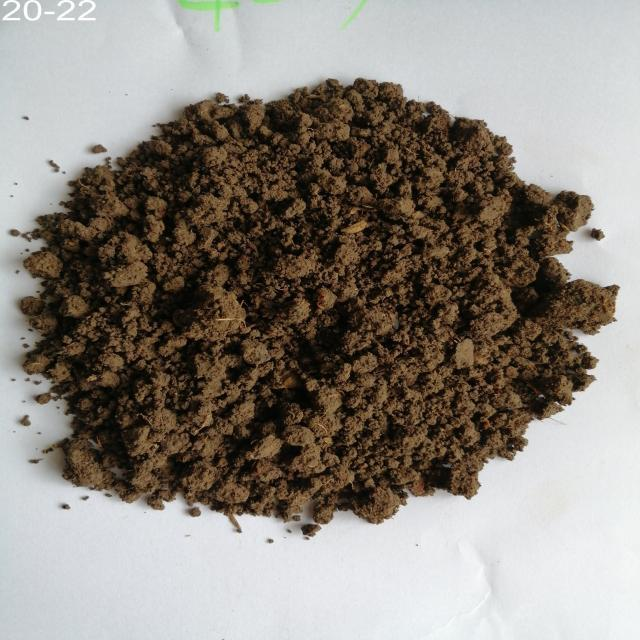soil: (113, 170, 524, 450)
